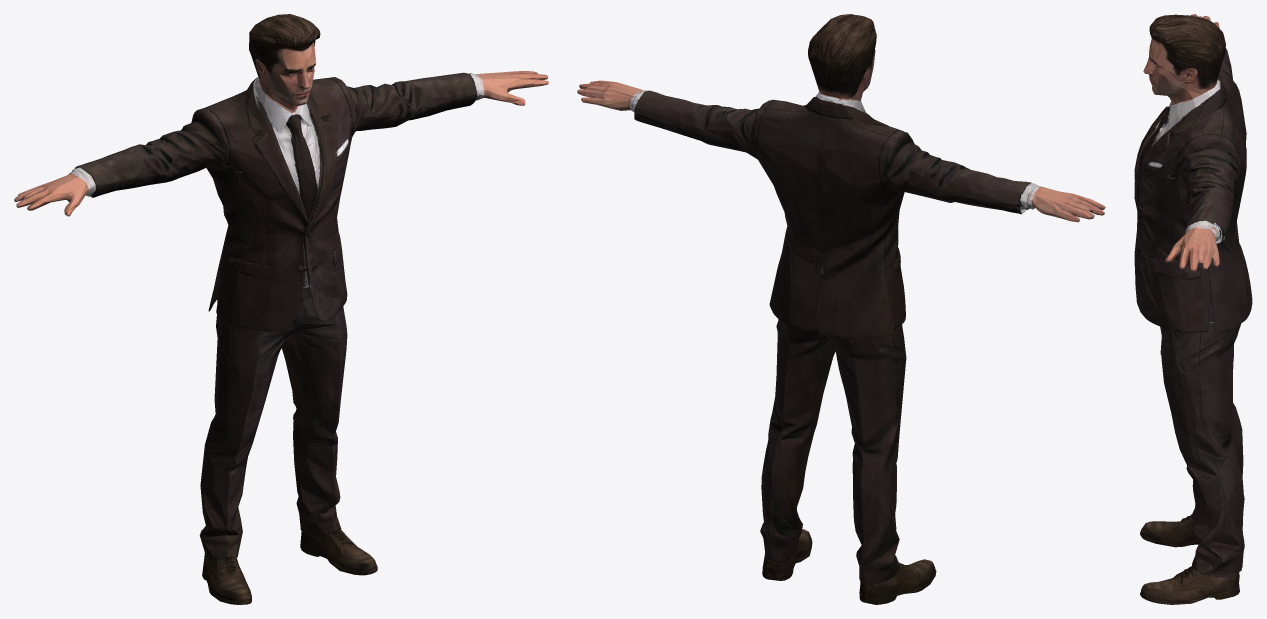
File: npc_business.glb
3 renders of one model, left to right at view 1: azimuth 30°, elevation 25°; view 2: azimuth 150°, elevation 25°; view 3: azimuth 270°, elevation 25°, orthographic.
Visible parts, largest first — view 1: world; view 2: world; view 3: world.
Boxes of the visible parts, x1=… form: world: x1=14, y1=14, x2=548, y2=604; world: x1=577, y1=14, x2=1105, y2=604; world: x1=1134, y1=14, x2=1252, y2=604.
Bounding box in the file's own units: 1.99 × 1.99 × 0.388.
Materials: 1 (1 with a texture image).
